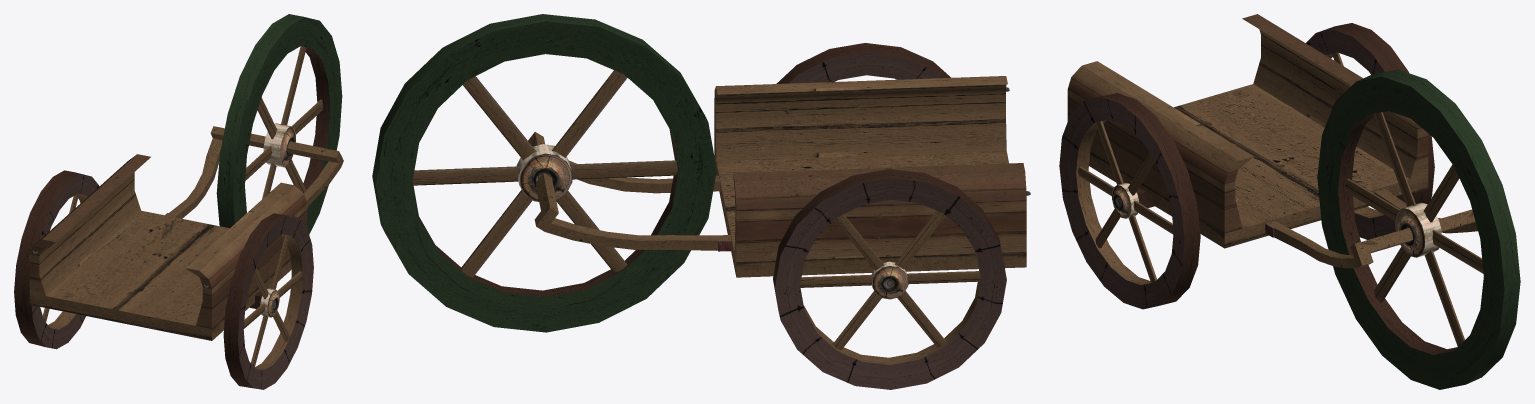
Rendered from Cart1.fbx.
3 renders of one model, left to right at view 1: azimuth 30°, elevation 25°; view 2: azimuth 150°, elevation 25°; view 3: azimuth 270°, elevation 25°, orthographic. The views are drawn at different scales.
Visible parts, largest first — view 1: Handcart; view 2: Handcart; view 3: Handcart.
Part boxes in pixels (x1,y1,x2,y2): Handcart: (14,14,343,389); Handcart: (372,14,1030,389); Handcart: (1059,14,1520,389).
Bounding box in the file's own units: 3.61 × 2.04 × 2.87.
